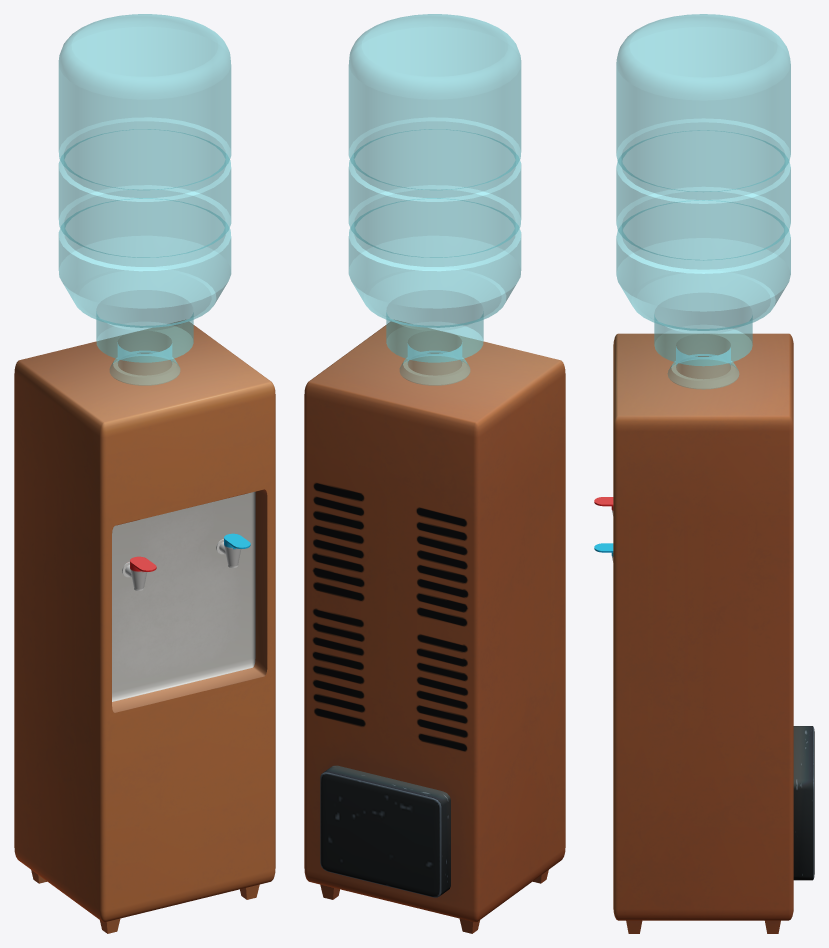
File: stylized_water_dispenser.glb
3 renders of one model, left to right at view 1: azimuth 30°, elevation 25°; view 2: azimuth 150°, elevation 25°; view 3: azimuth 270°, elevation 25°, orthographic.
Visible parts, largest first — view 1: Cube, Cylinder, Cylinder.001; view 2: Cube, Cylinder, Cube.002; view 3: Cube, Cylinder, Cube.002.
Part boxes in pixels (x1=…): Cube: x1=14, y1=320, x2=275, y2=922; Cylinder: x1=58, y1=14, x2=231, y2=385; Cylinder.001: x1=122, y1=533, x2=250, y2=590; Cube: x1=304, y1=320, x2=565, y2=922; Cylinder: x1=348, y1=14, x2=521, y2=385; Cube.002: x1=320, y1=765, x2=450, y2=897; Cube: x1=613, y1=333, x2=793, y2=920; Cylinder: x1=616, y1=14, x2=790, y2=389; Cube.002: x1=793, y1=726, x2=814, y2=880.
Bounding box in the file's own units: 8.56 × 39.27 × 9.21.
Materials: 2 (1 with a texture image).
